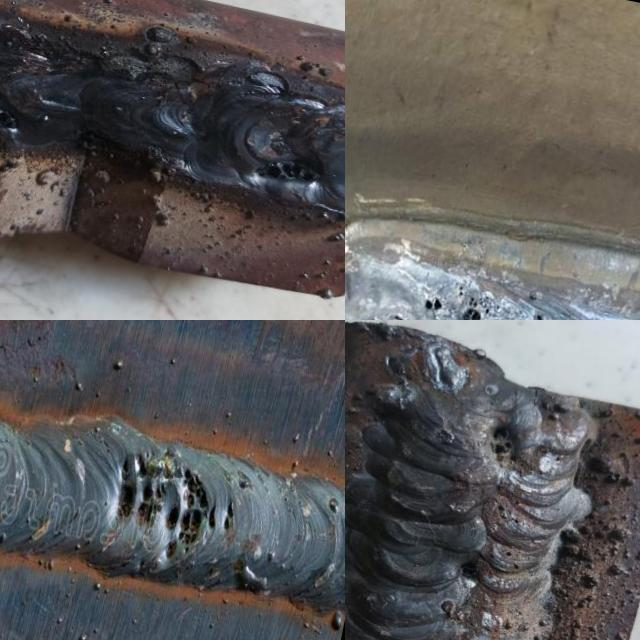defect: (160, 467, 218, 561), (384, 286, 504, 320), (114, 451, 168, 526), (250, 161, 325, 185), (484, 423, 521, 460), (451, 553, 483, 580), (0, 106, 20, 131), (431, 428, 457, 446), (224, 498, 234, 531), (530, 310, 552, 320)
